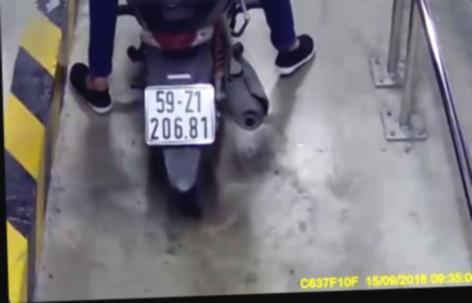License_Plate: (139, 81, 225, 151)
